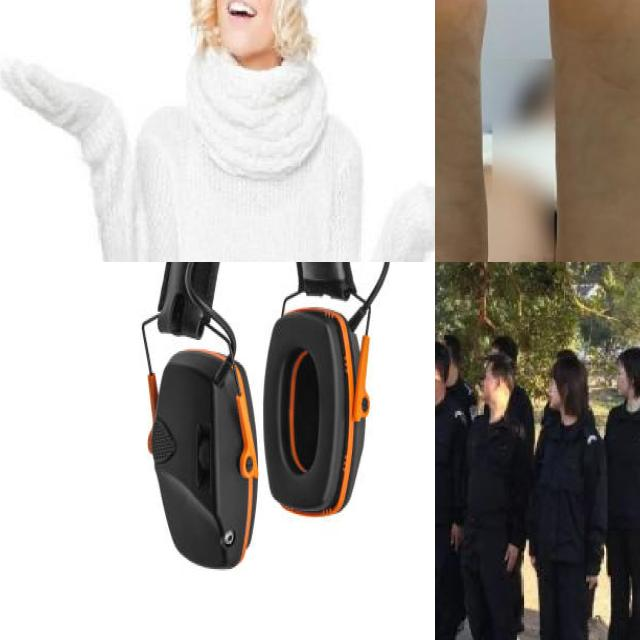Barefoots: (544, 0, 640, 262), (435, 0, 494, 262)
Ear-protection: (122, 262, 402, 574)
face_nomask: (206, 0, 295, 60)
hand_glove: (0, 56, 94, 145)
hand_noglove: (502, 543, 518, 571), (449, 525, 463, 551), (584, 571, 598, 589), (529, 552, 537, 570)
head_nohelmet: (543, 365, 588, 389), (492, 334, 520, 363), (482, 353, 508, 377), (615, 349, 640, 370), (558, 349, 580, 365), (442, 334, 462, 351), (435, 345, 442, 368)
person: (0, 0, 435, 262), (529, 370, 604, 640), (467, 355, 529, 640), (604, 340, 640, 640), (435, 344, 470, 640)
